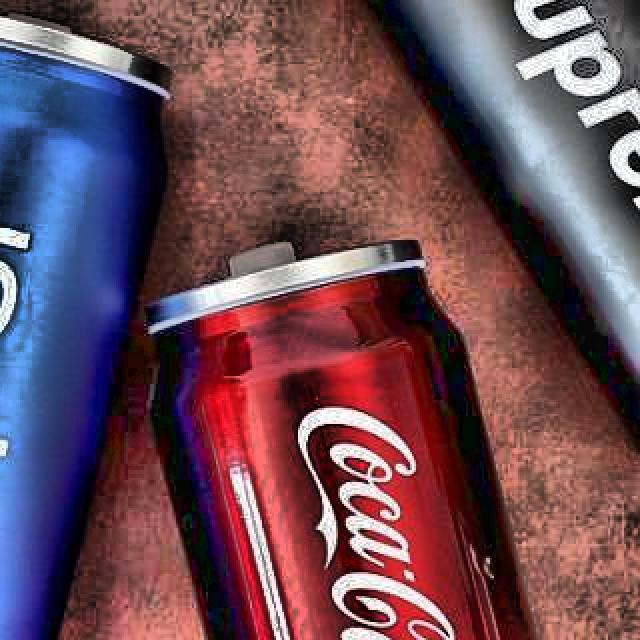metal: (280, 0, 640, 530), (134, 224, 578, 640), (0, 0, 190, 640)
